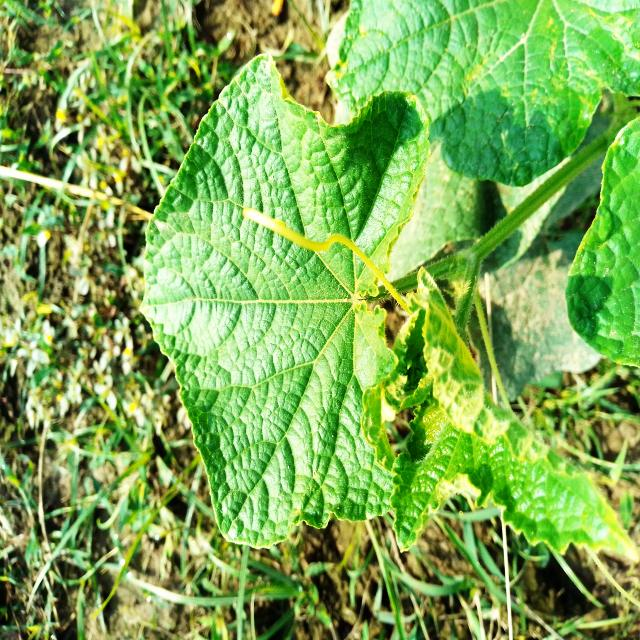Fresh-Leaf: (141, 48, 431, 555)
